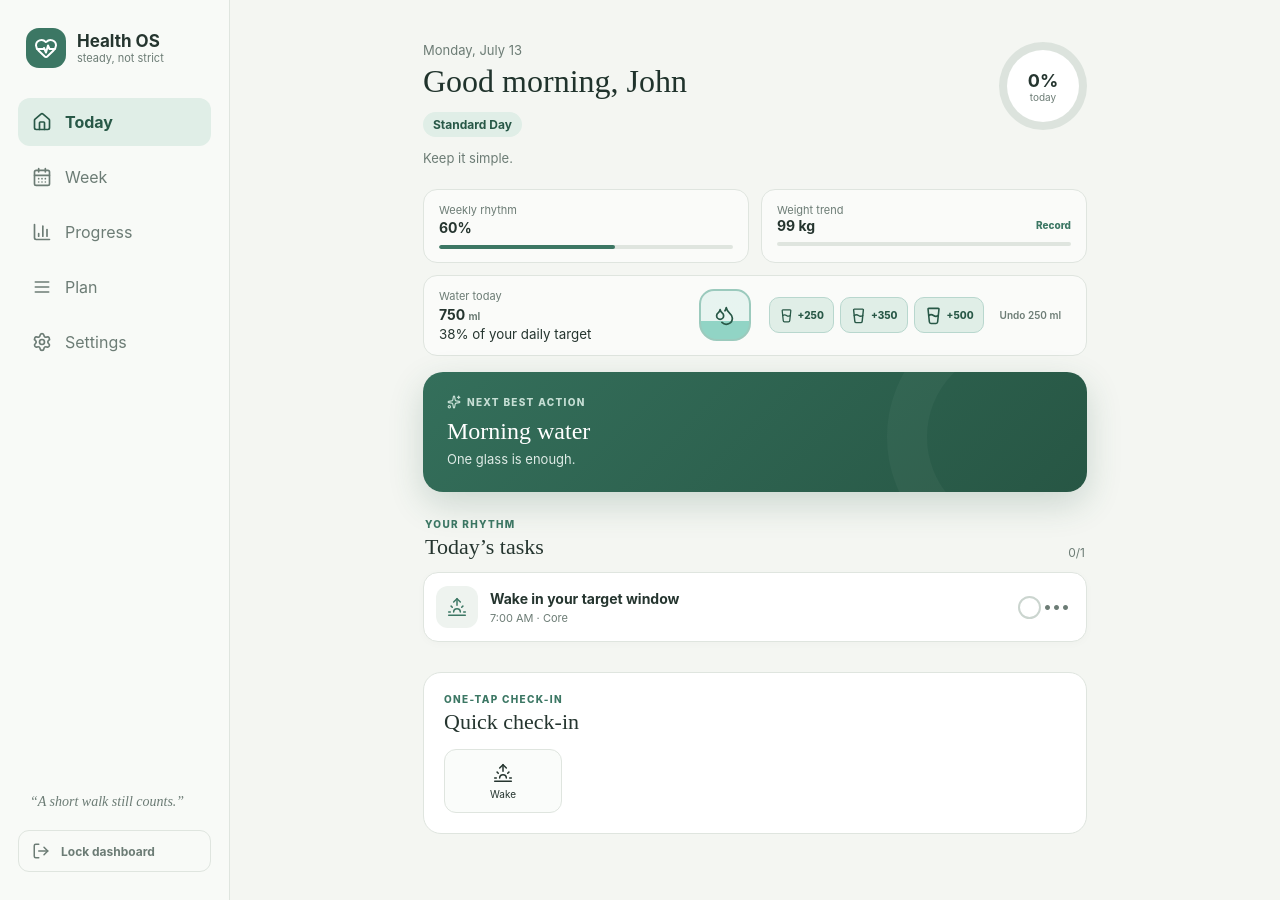
opens the weight check-in from Today
Click the button "Record": point(1054, 225) [1036,217,1071,233]
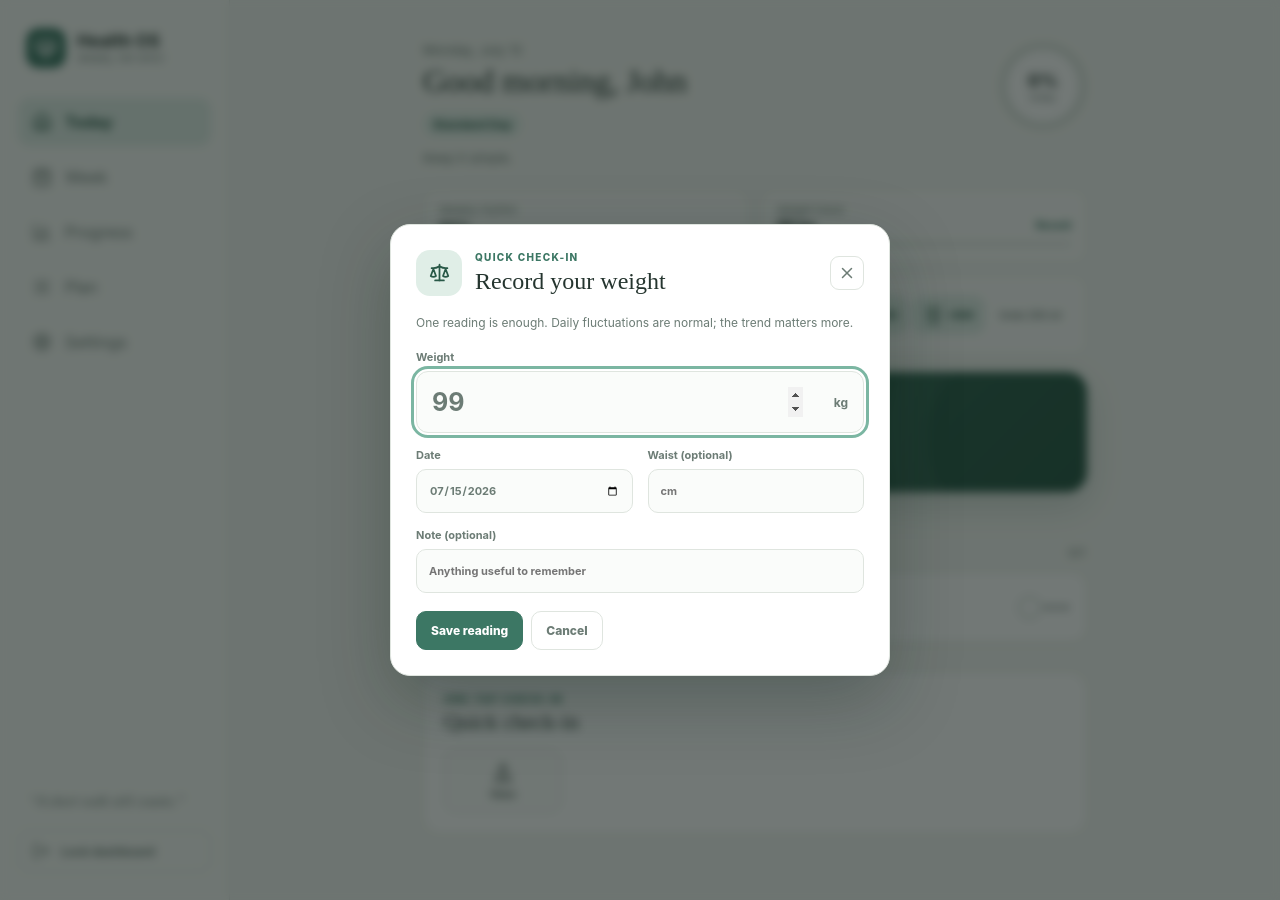
Expected: the dialog "Record your weight" is shown, [390,224,890,676]
Expected: the number field labelled "Weight" holds "99", [416,371,864,433]
Expected: the button "Save reading" is shown, [416,611,523,650]
